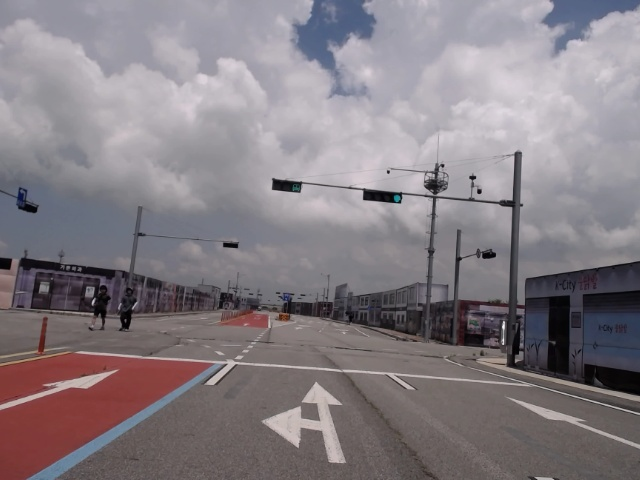straight_green_4: (364, 189, 403, 206)
